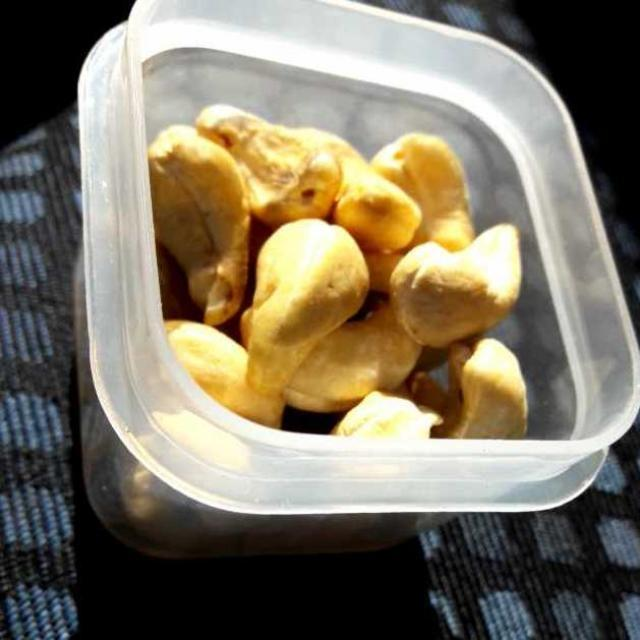cashew-nut: (156, 101, 523, 437)
